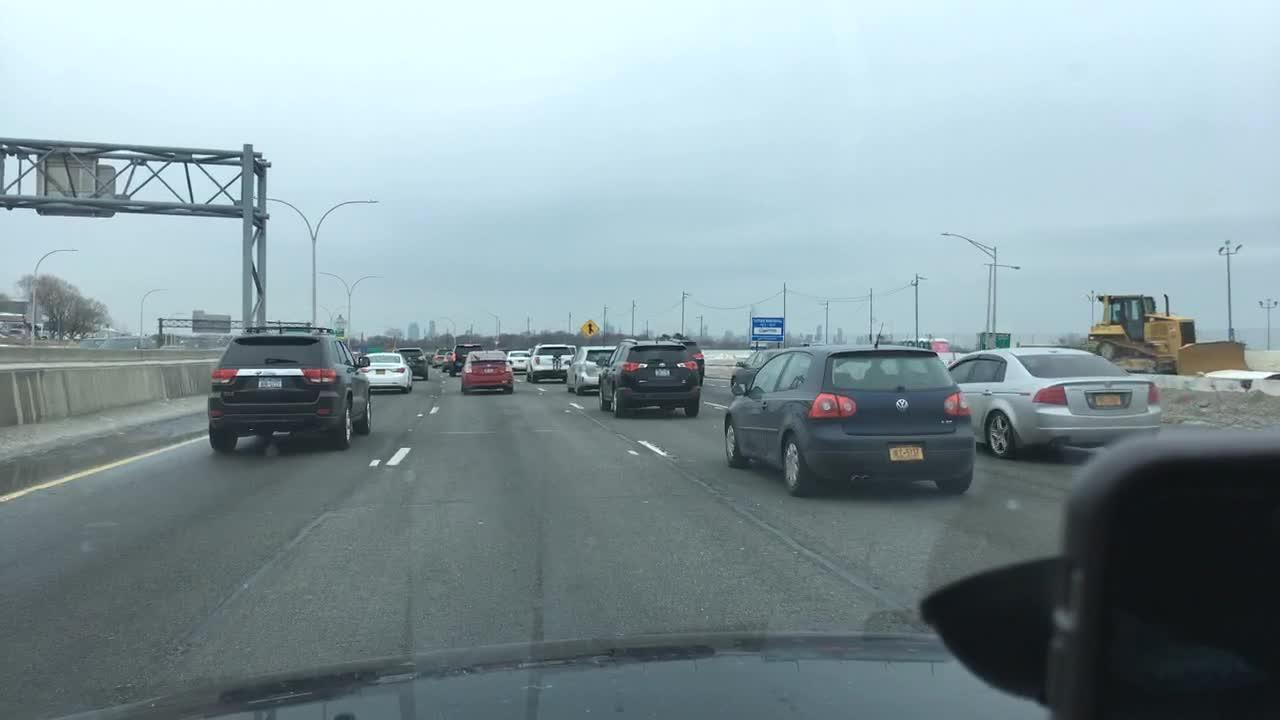Volkswagen: (893, 393, 912, 414)
